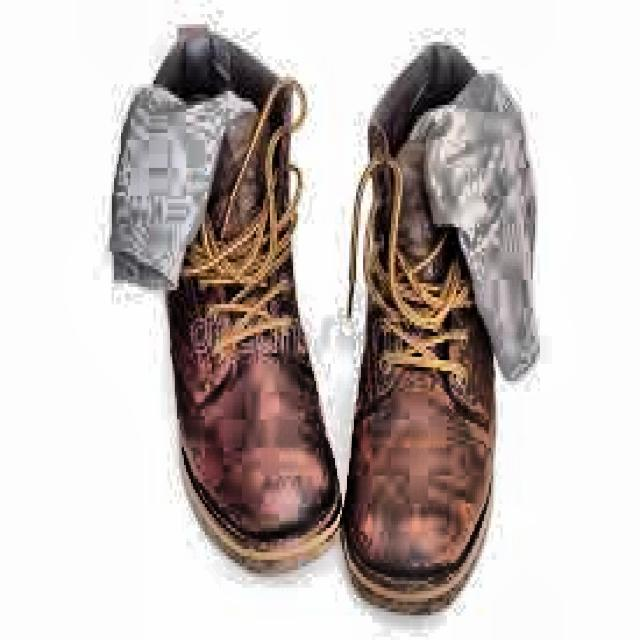shoes: (112, 21, 547, 620)
